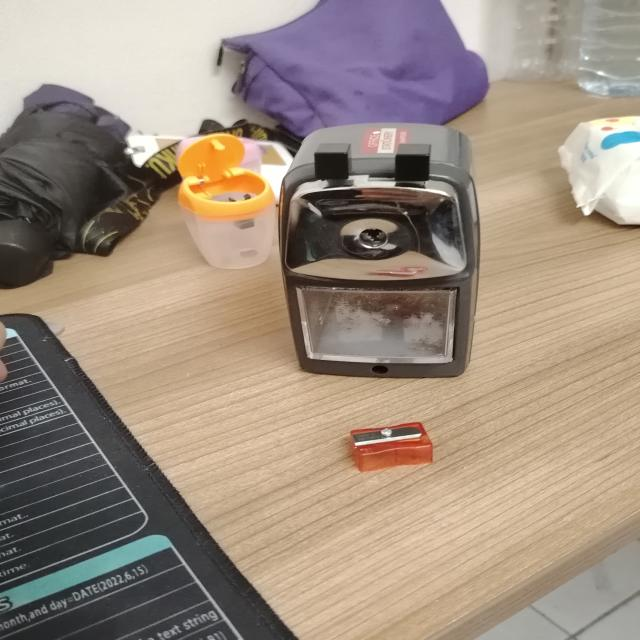sharpener: (279, 123, 479, 377), (178, 133, 276, 269), (349, 422, 432, 472)
